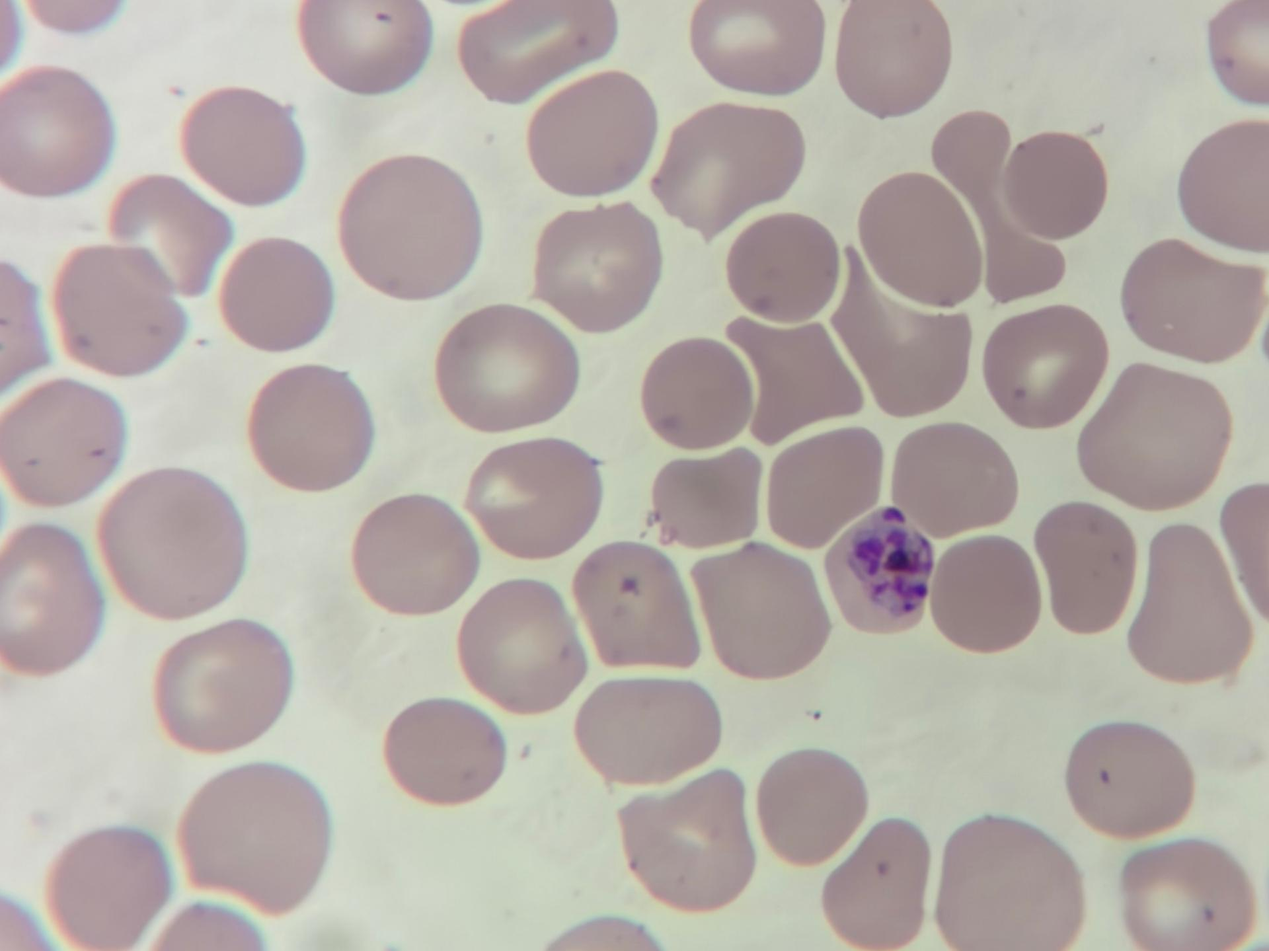Infected: (822, 506, 940, 637)
Uninfected: (175, 763, 328, 917), (98, 468, 249, 619), (1081, 365, 1233, 512), (828, 263, 969, 419), (1124, 522, 1252, 684), (339, 157, 484, 300), (650, 102, 804, 235), (612, 770, 754, 913), (933, 818, 1080, 948), (692, 543, 831, 679), (153, 620, 291, 754), (435, 305, 578, 432), (1119, 240, 1264, 365), (52, 244, 186, 379), (726, 316, 861, 447), (457, 581, 589, 712), (525, 72, 661, 198), (856, 174, 982, 310), (571, 539, 701, 669), (461, 0, 620, 106), (465, 437, 603, 558), (531, 204, 658, 332), (1, 377, 125, 508), (574, 675, 720, 786), (247, 363, 373, 489), (0, 525, 104, 674), (352, 494, 480, 615), (1065, 722, 1194, 841), (891, 422, 1020, 541), (180, 87, 308, 206), (108, 176, 233, 297), (46, 827, 170, 948), (983, 307, 1106, 428), (822, 818, 935, 948), (765, 427, 883, 551), (1, 67, 113, 196), (1119, 841, 1254, 948), (1032, 504, 1137, 636), (927, 535, 1041, 656), (217, 237, 335, 351), (382, 699, 507, 806), (756, 749, 868, 866), (724, 212, 842, 323), (296, 0, 432, 95), (691, 0, 825, 95), (837, 2, 950, 114), (640, 339, 752, 452), (1177, 122, 1269, 252), (1001, 132, 1108, 240), (648, 448, 758, 550), (930, 111, 1016, 205)
